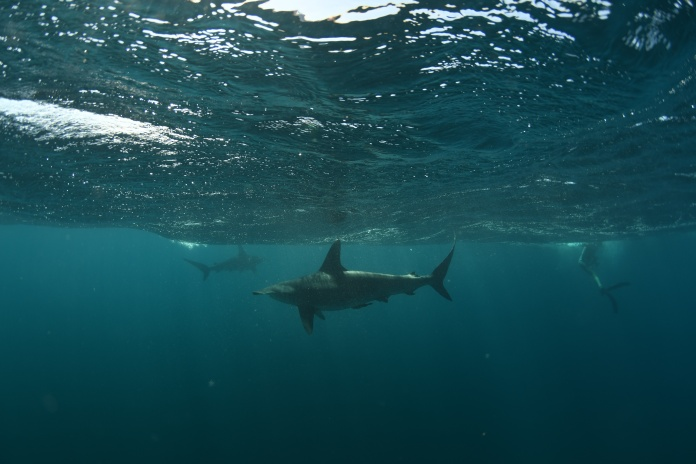Hammer: (215, 235, 519, 384)
